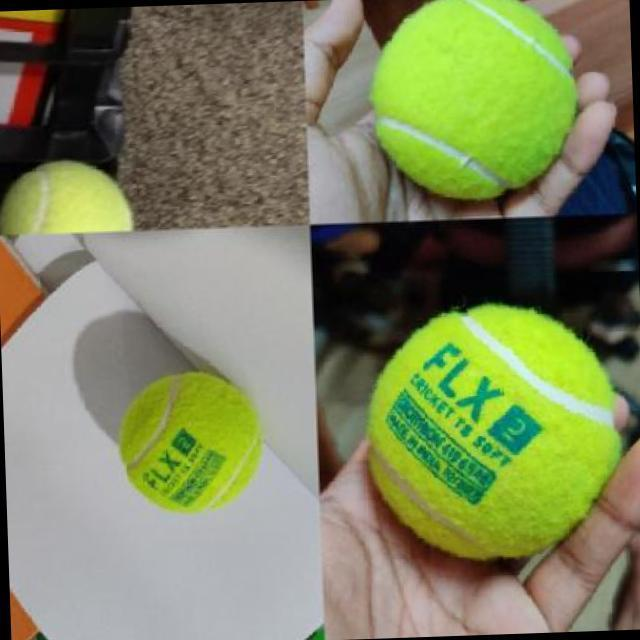-: (368, 292, 625, 565), (375, 0, 596, 214), (90, 360, 273, 532)
